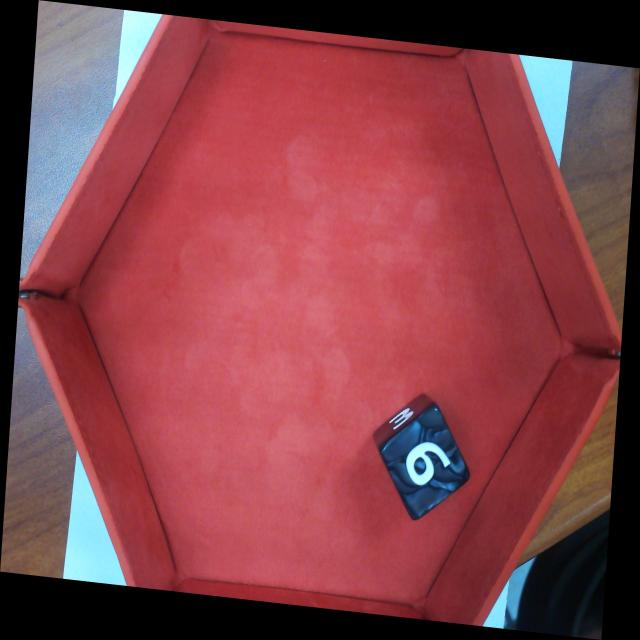dice: (377, 400, 473, 524)
